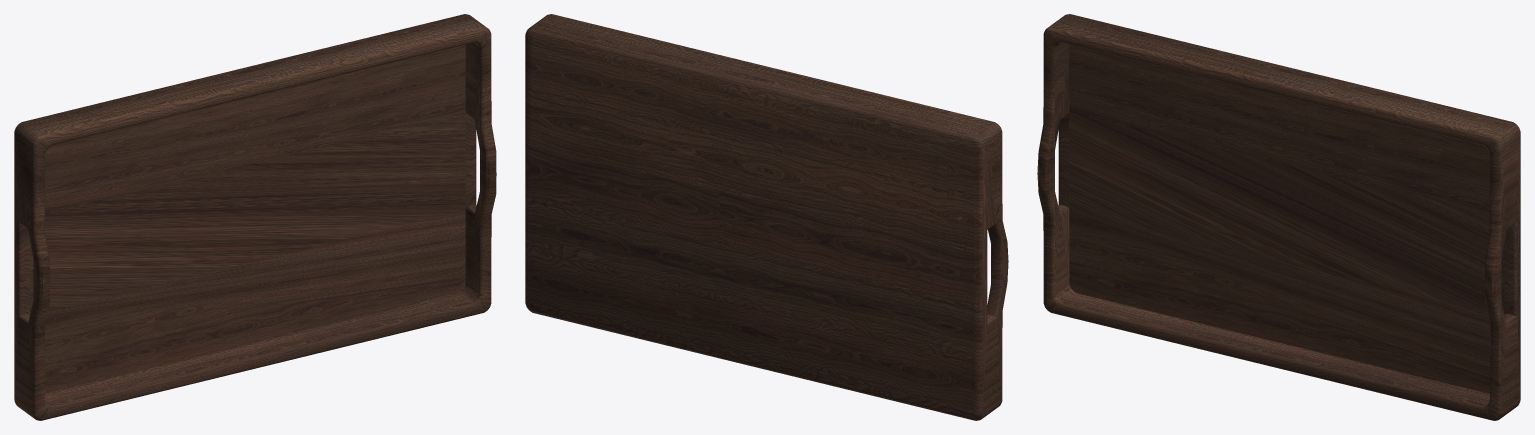
3 views of the same model, side by side, from view 1: azimuth 30°, elevation 25°; view 2: azimuth 150°, elevation 25°; view 3: azimuth 330°, elevation 25° (orthographic).
Parts seen in each view (by area): view 1: Tray_Cube.001; view 2: Tray_Cube.001; view 3: Tray_Cube.001.
Part boxes in pixels (bbox=[...]): Tray_Cube.001: bbox=[14, 14, 496, 420]; Tray_Cube.001: bbox=[525, 14, 1008, 420]; Tray_Cube.001: bbox=[1037, 14, 1520, 420].
Size of the model in its own units: 0.3433 by 0.2042 by 0.0369.
1 material, 1 textured.
